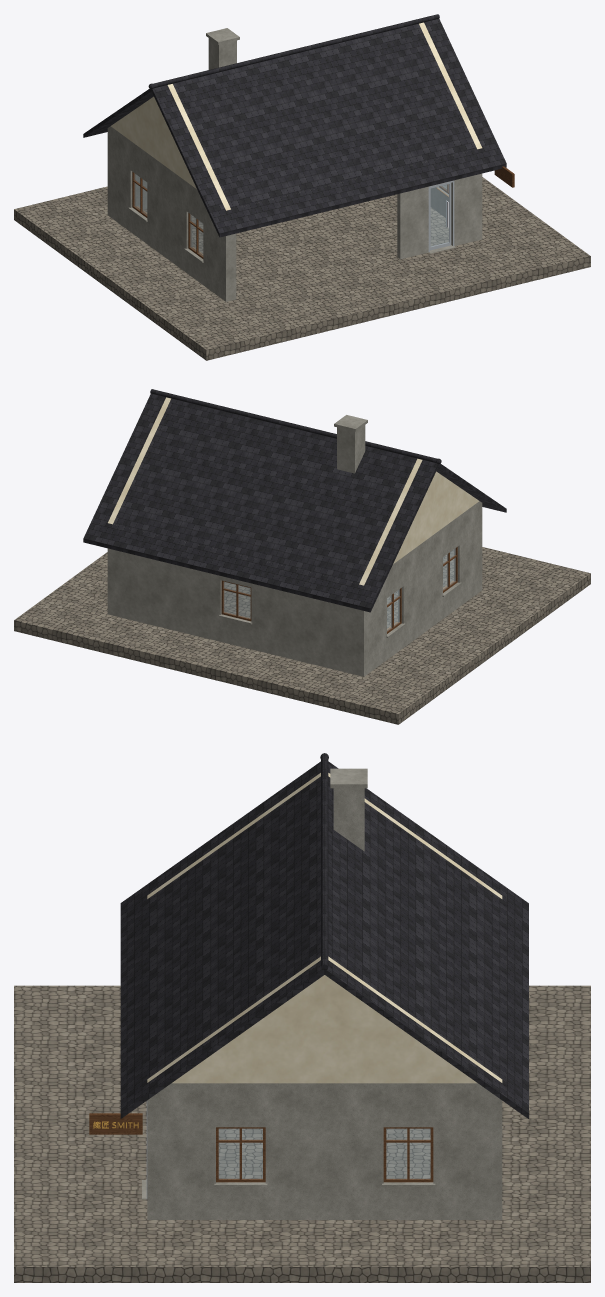
Rendered from b_blacksmith_forge.gltf.
The picture shows the model from 3 angles, top to bottom: view 1: azimuth 30°, elevation 25°; view 2: azimuth 150°, elevation 25°; view 3: azimuth 270°, elevation 25°; orthographic projection. The views are drawn at different scales.
Visible parts, largest first — view 1: S_blacksmith_forge, D_blacksmith_forge_F1_S1_Door0; view 2: S_blacksmith_forge; view 3: S_blacksmith_forge.
Part boxes in pixels (x1=…): S_blacksmith_forge: x1=14, y1=14, x2=590, y2=360; D_blacksmith_forge_F1_S1_Door0: x1=430, y1=183, x2=451, y2=250; S_blacksmith_forge: x1=14, y1=389, x2=590, y2=724; S_blacksmith_forge: x1=14, y1=753, x2=590, y2=1282.
Size of the model in its own units: 15 by 7.93 by 13.
15 materials, 9 textured.
